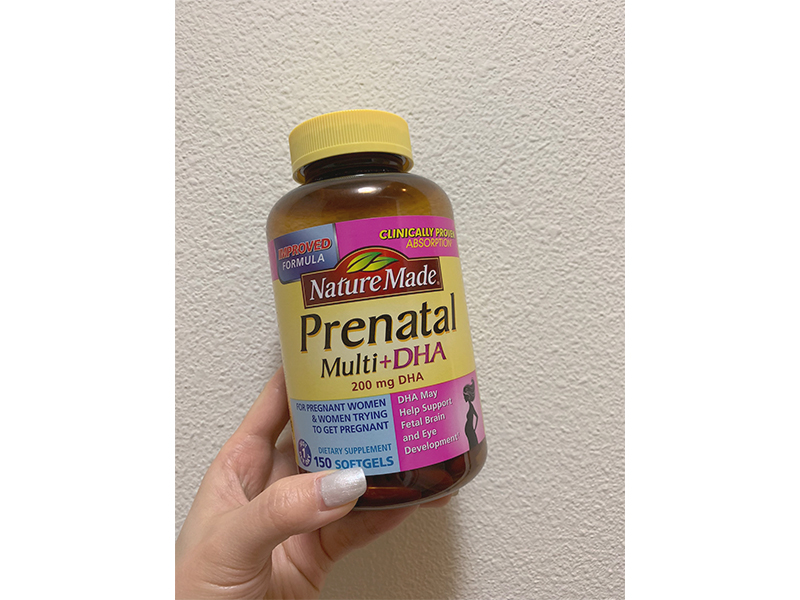supplement_label: (253, 212, 498, 479)
